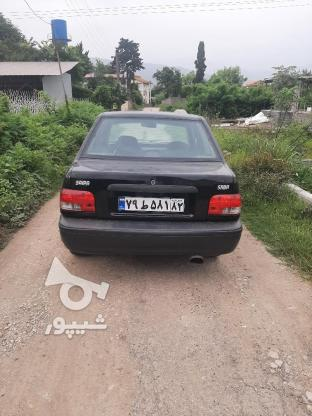car: (117, 196, 186, 213)
